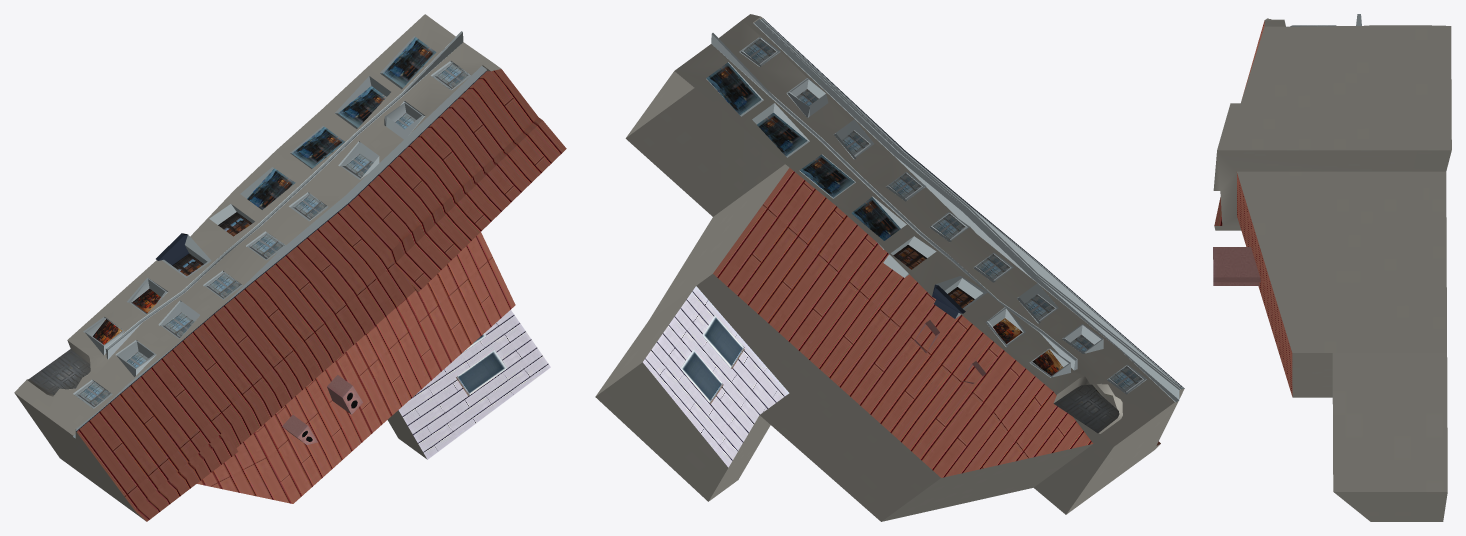
The model's file is Myyrivahe_20-origo.obj.
The picture shows the model from 3 angles, left to right: view 1: azimuth 30°, elevation 25°; view 2: azimuth 150°, elevation 25°; view 3: azimuth 270°, elevation 25°; orthographic projection. The views are drawn at different scales.
Visible parts, largest first — view 1: Myyrivahe002; view 2: Myyrivahe002; view 3: Myyrivahe002.
Boxes of the visible parts, <box> form: Myyrivahe002: <box>14,14,566,521</box>; Myyrivahe002: <box>595,14,1184,521</box>; Myyrivahe002: <box>1213,14,1451,521</box>.
Bounding box in the file's own units: 27.19 × 22 × 9.05.
Materials: 1 (1 with a texture image).
